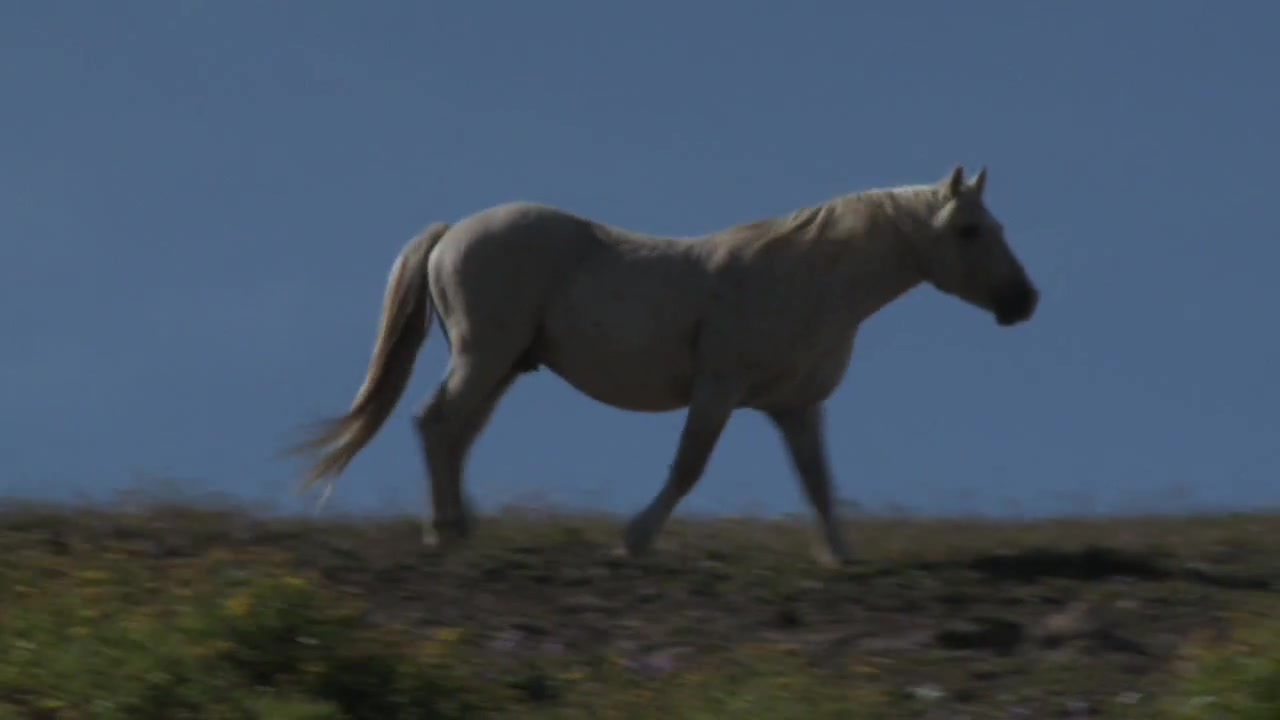horse: (287, 168, 1047, 579)
